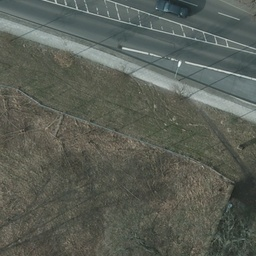car: (152, 1, 190, 18)
